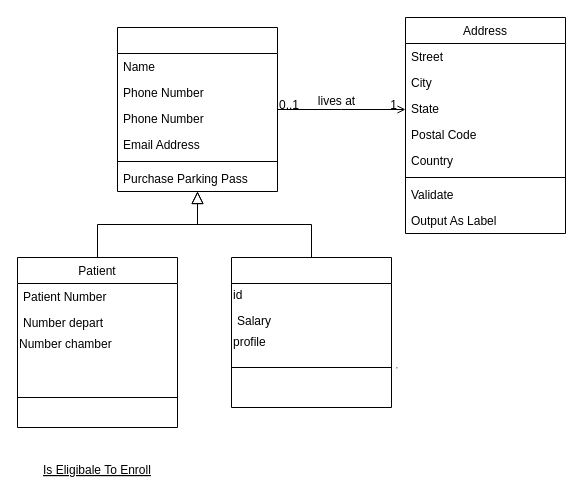
The diagram is 583 pixels wide and 503 high, and some of its shapes have lost their labels. The shapes that lost their labels are listed below. From the top down, each one's box as (x1, y1, x2, y2) in pixels, then its label:
(116, 26, 278, 192): Person
(230, 256, 392, 408): Doctor
